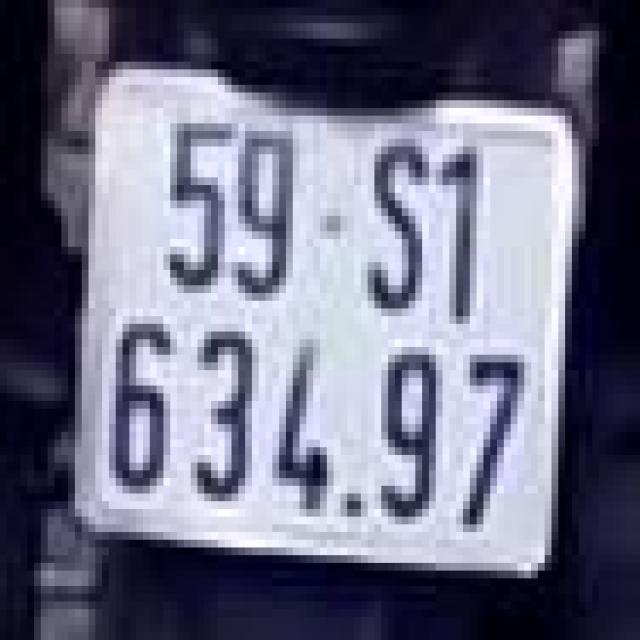1: (432, 127, 500, 336)
3: (188, 308, 255, 516)
4: (266, 328, 334, 528)
5: (164, 108, 232, 301)
6: (99, 312, 180, 505)
7: (453, 339, 534, 555)
9: (232, 124, 313, 308), (374, 339, 442, 540)
S: (361, 124, 436, 316)
